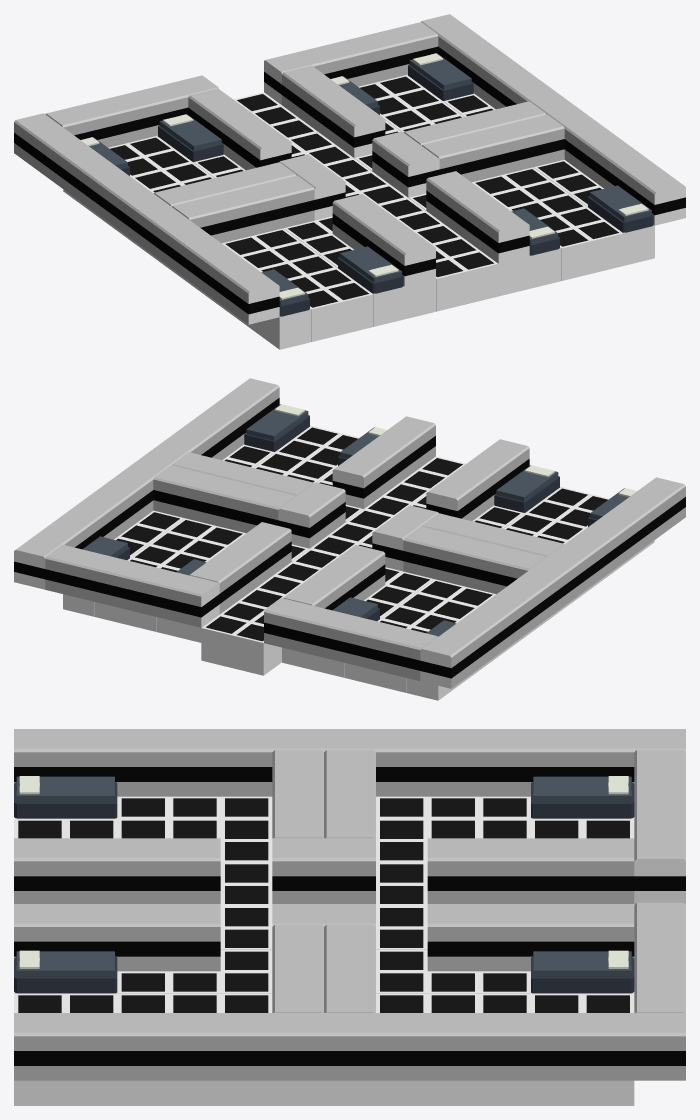
The model's file is bedroomSmall1.fbx.
3 views of the same model, one above another, from view 1: azimuth 30°, elevation 25°; view 2: azimuth 150°, elevation 25°; view 3: azimuth 270°, elevation 25° (orthographic). The views are drawn at different scales.
Parts seen in each view (by area): view 1: Cube.183, Cube.209, Cube.213, Cube.237, Cube.007, Cube.009, Cube.216, Cube.214, Cube.192, Cube.196, Cube.017, Cube.025 (+118 smaller); view 2: Cube.168, Cube.187, Cube.009, Cube.007, Cube.212, Cube.199, Cube.194, Cube.173, Cube.195, Cube.198, Cube.228, Cube.162 (+112 smaller); view 3: Cube.211, Cube.236, Cube, Cube.235, Cube.176, Cube.179, Cube.193, Cube.202, Cube.205, Cube.207, Cube.216, Cube.177 (+120 smaller).
Boxes of the visible parts, x1=… form: Cube.183: x1=230, y1=272, x2=279, y2=324; Cube.209: x1=480, y1=211, x2=529, y2=263; Cube.213: x1=158, y1=114, x2=223, y2=161; Cube.237: x1=408, y1=53, x2=473, y2=100; Cube.007: x1=338, y1=246, x2=403, y2=293; Cube.009: x1=588, y1=185, x2=653, y2=232; Cube.216: x1=336, y1=105, x2=385, y2=157; Cube.214: x1=390, y1=144, x2=439, y2=197; Cube.192: x1=636, y1=172, x2=685, y2=225; Cube.196: x1=386, y1=233, x2=435, y2=286; Cube.017: x1=325, y1=281, x2=373, y2=334; Cube.025: x1=574, y1=220, x2=623, y2=273; Cube.168: x1=170, y1=575, x2=219, y2=627; Cube.187: x1=420, y1=636, x2=469, y2=688; Cube.009: x1=244, y1=404, x2=309, y2=451; Cube.007: x1=494, y1=465, x2=559, y2=512; Cube.212: x1=278, y1=495, x2=327, y2=548; Cube.199: x1=332, y1=456, x2=381, y2=508; Cube.194: x1=232, y1=622, x2=281, y2=675; Cube.173: x1=389, y1=628, x2=437, y2=680; Cube.195: x1=201, y1=614, x2=249, y2=667; Cube.198: x1=426, y1=479, x2=475, y2=520; Cube.228: x1=153, y1=465, x2=201, y2=517; Cube.162: x1=45, y1=544, x2=93, y2=597; Cube.211: x1=14, y1=950, x2=117, y2=993; Cube.236: x1=531, y1=950, x2=634, y2=993; Cube: x1=14, y1=776, x2=117, y2=818; Cube.235: x1=531, y1=776, x2=634, y2=818; Cube.176: x1=427, y1=729, x2=479, y2=796; Cube.179: x1=220, y1=729, x2=272, y2=796; Cube.193: x1=65, y1=1013, x2=117, y2=1080; Cube.202: x1=220, y1=1013, x2=272, y2=1080; Cube.205: x1=427, y1=1013, x2=479, y2=1080; Cube.207: x1=582, y1=1013, x2=634, y2=1080; Cube.216: x1=427, y1=904, x2=479, y2=971; Cube.177: x1=479, y1=729, x2=530, y2=796.
Size of the model in its own units: 2800 by 400 by 2600.
